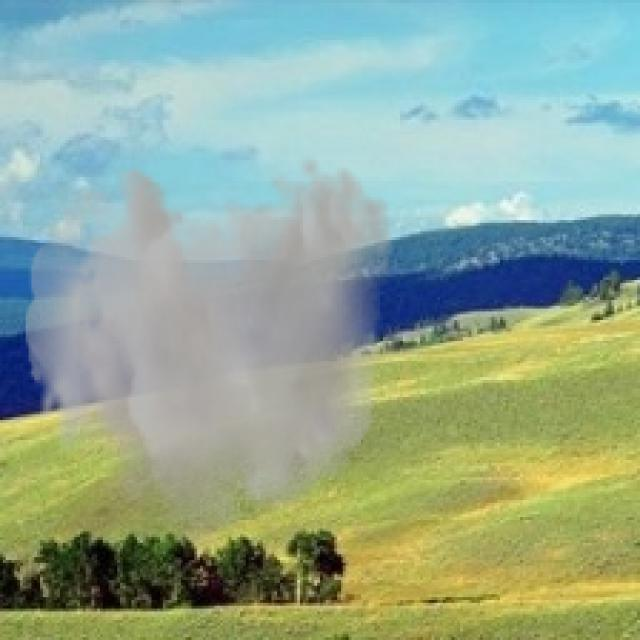Smoke: (26, 154, 394, 563)
